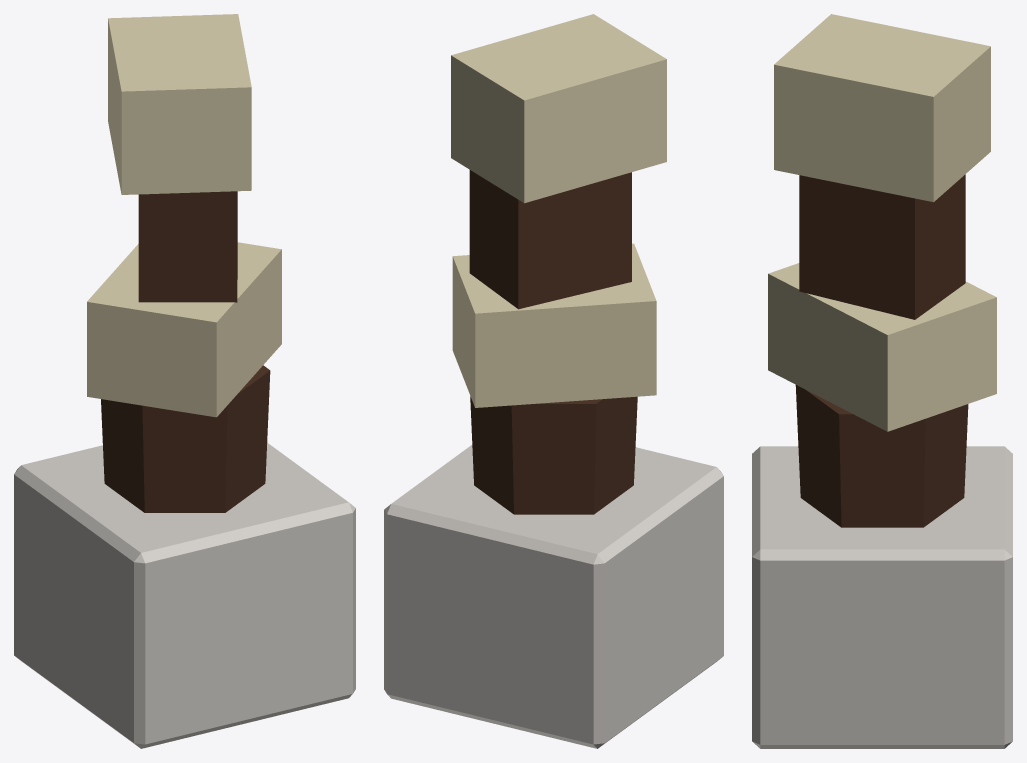
File: sculpture-12.glb
3 renders of one model, left to right at view 1: azimuth 30°, elevation 25°; view 2: azimuth 150°, elevation 25°; view 3: azimuth 270°, elevation 25°, orthographic. The views are drawn at different scales.
Visible parts, largest first — view 1: sculpture_12; view 2: sculpture_12; view 3: sculpture_12.
Part boxes in pixels (x1=…): sculpture_12: x1=14, y1=14, x2=355, y2=748; sculpture_12: x1=384, y1=14, x2=723, y2=748; sculpture_12: x1=752, y1=14, x2=1012, y2=748.
Bounding box in the file's own units: 0.1865 × 0.5042 × 0.1865.
